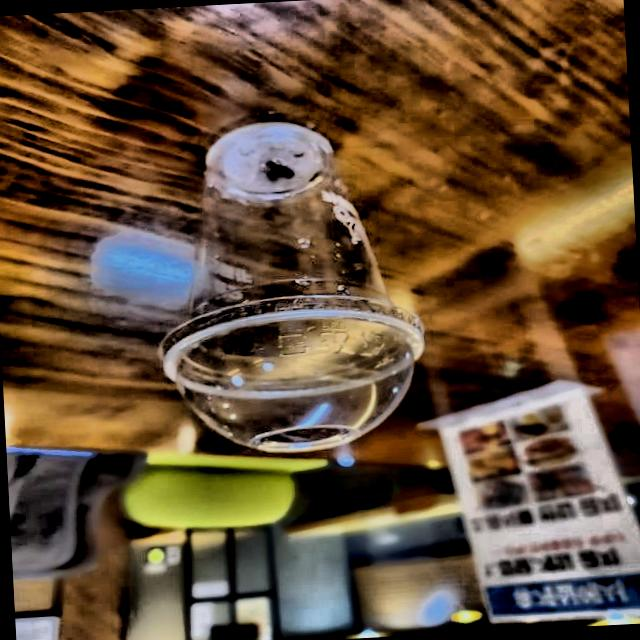plastic cup: (132, 92, 462, 482)
